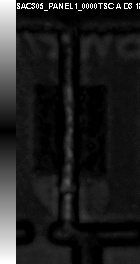led: (35, 85, 107, 175)
